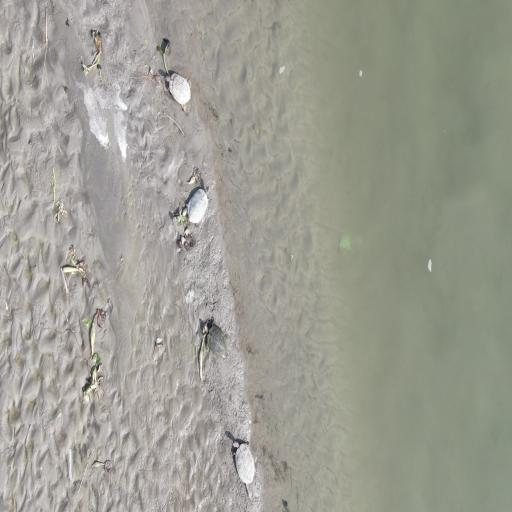turtle: (233, 435, 258, 491), (164, 71, 192, 115), (203, 321, 229, 360), (188, 184, 210, 222)
